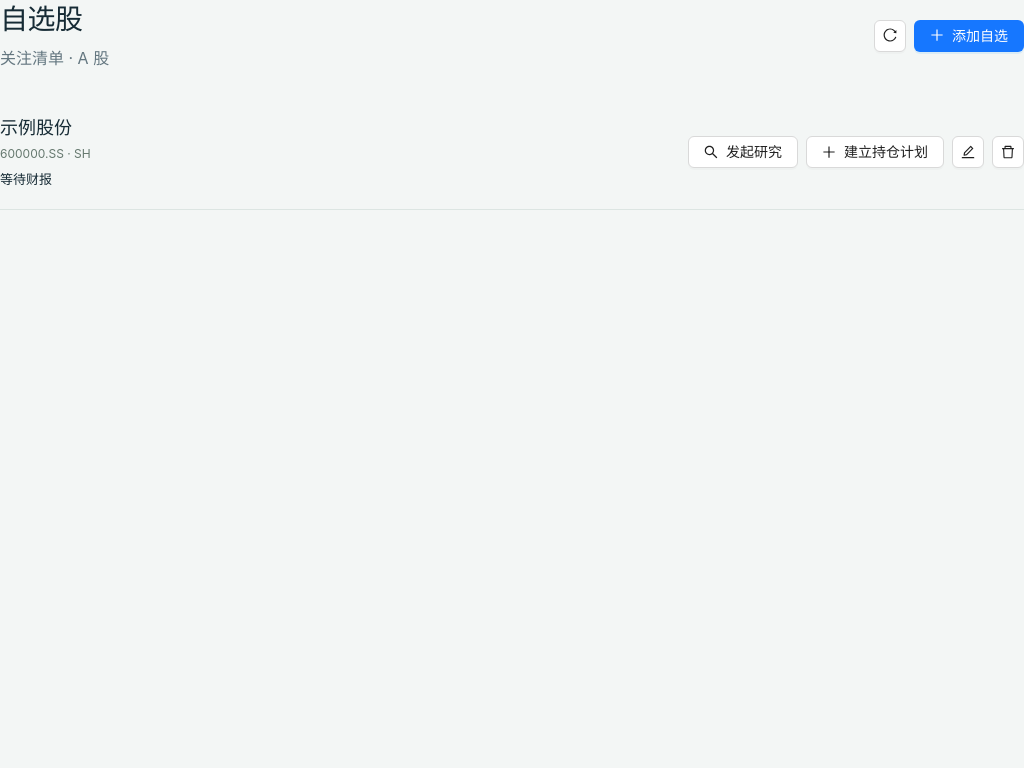
opens a holding plan for a watched verified stock
Expected: the text "等待财报" is shown, [0,171,52,187]
Click the button "建立持仓计划" at (875, 152), box [806,136,944,168]
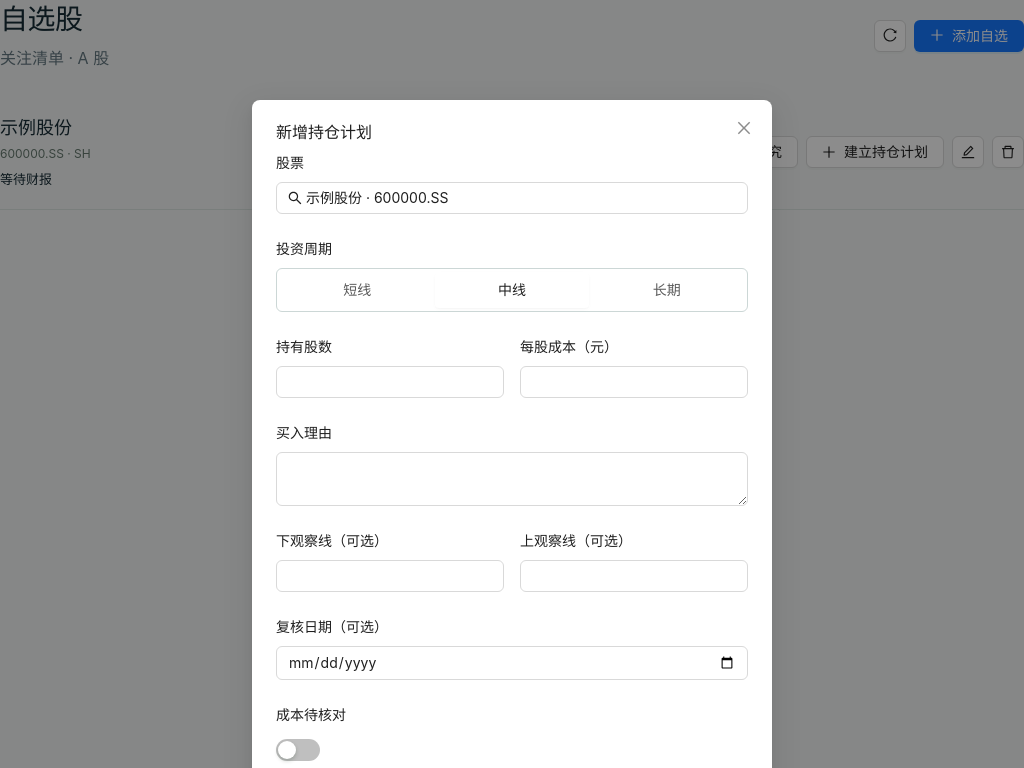
Now the dialog "新增持仓计划" is shown, box [252,100,772,767]
Now the dropdown holds "示例股份 · 600000.SS", box [306,187,736,209]
